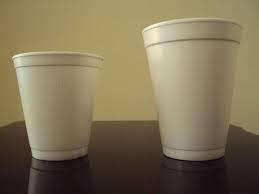Plastic cup: (133, 18, 240, 164), (10, 44, 107, 169)
